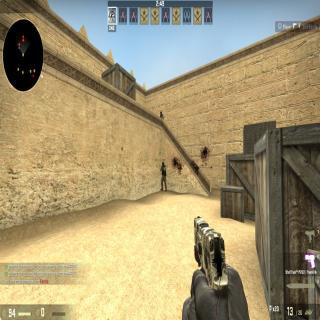CT-Body: (160, 160, 167, 190)
CT-Head: (161, 160, 165, 168), (160, 110, 162, 115)
